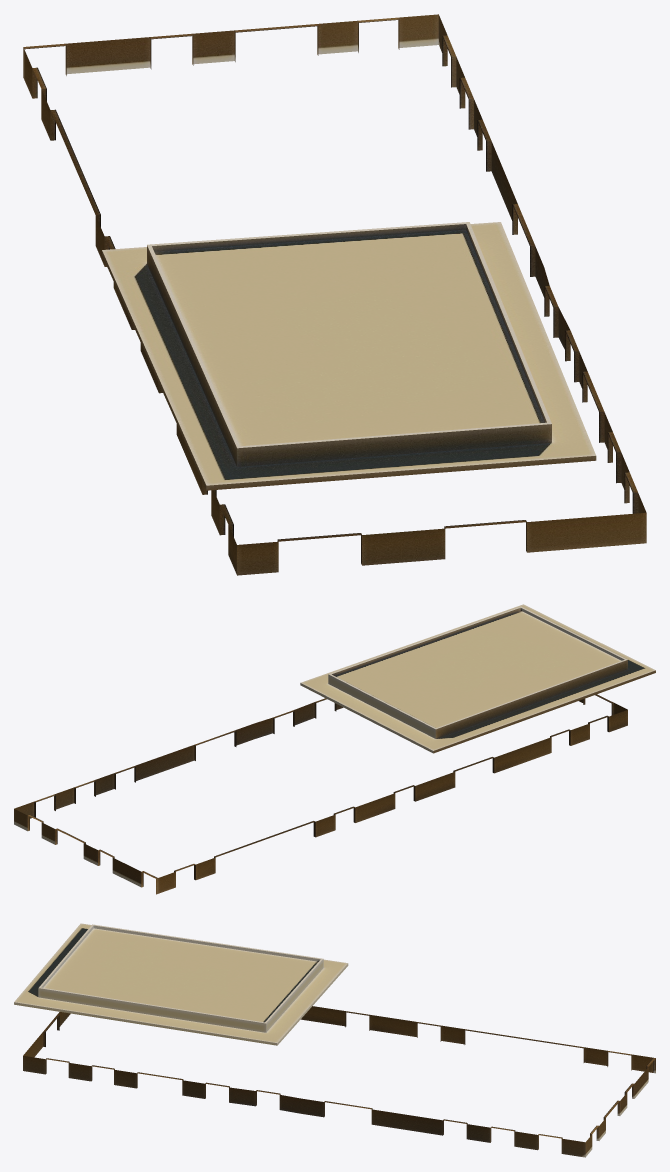
File: Building_05_Top.fbx
3 views of the same model, one above another, from view 1: azimuth 30°, elevation 25°; view 2: azimuth 150°, elevation 25°; view 3: azimuth 270°, elevation 25° (orthographic). The views are drawn at different scales.
Parts seen in each view (by area): view 1: Building_05_Top; view 2: Building_05_Top; view 3: Building_05_Top.
Part boxes in pixels (x1,y1,x2,y2): Building_05_Top: [23, 14, 646, 575]; Building_05_Top: [14, 604, 655, 894]; Building_05_Top: [14, 923, 655, 1157].
Size of the model in its own units: 31.1 by 5.13 by 46.92.
Materials: 1 (1 with a texture image).
